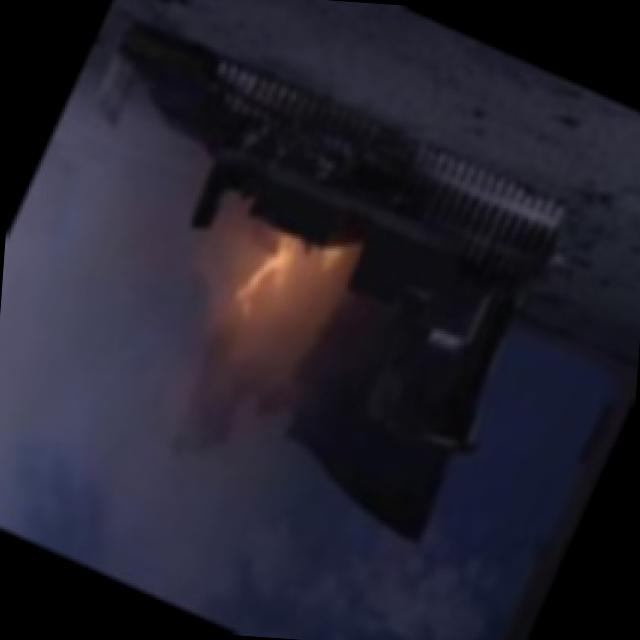fire: (197, 200, 359, 382)
smoke: (0, 194, 195, 561)
